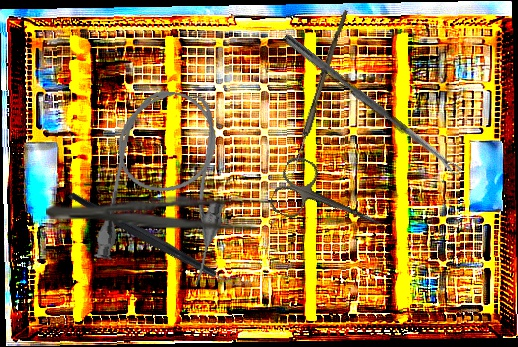Cannula: (91, 83, 243, 288)
Chopper: (68, 143, 251, 336)
Dressing Forceps: (46, 194, 277, 233)
Iris Scissors: (267, 153, 395, 254)
Surgical Spoon: (281, 33, 462, 177), (288, 8, 348, 182)
